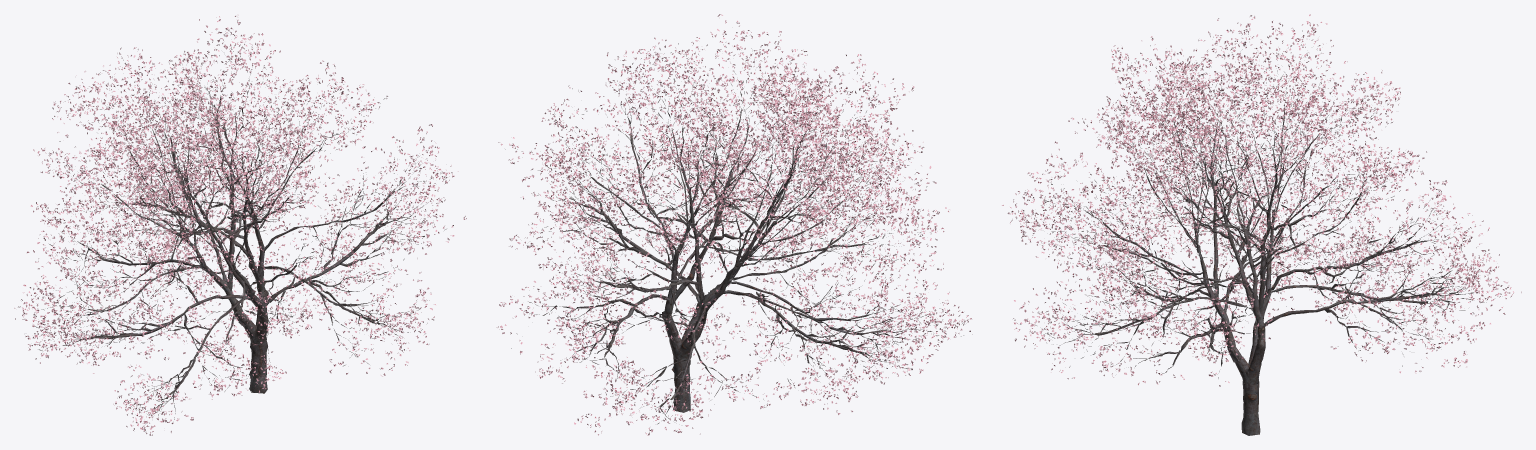
The model's file is z1_cerezo.obj.
The picture shows the model from 3 angles, left to right: view 1: azimuth 30°, elevation 25°; view 2: azimuth 150°, elevation 25°; view 3: azimuth 270°, elevation 25°; orthographic projection. The views are drawn at different scales.
Visible parts, largest first — view 1: Prunus_domestica; view 2: Prunus_domestica; view 3: Prunus_domestica.
Part boxes in pixels (x1,y1,x2,y2): Prunus_domestica: (14, 15, 466, 435); Prunus_domestica: (496, 14, 972, 435); Prunus_domestica: (1002, 14, 1521, 435).
Bounding box in the file's own units: 4.13 × 3.57 × 4.38.
Materials: 2 (2 with a texture image).
